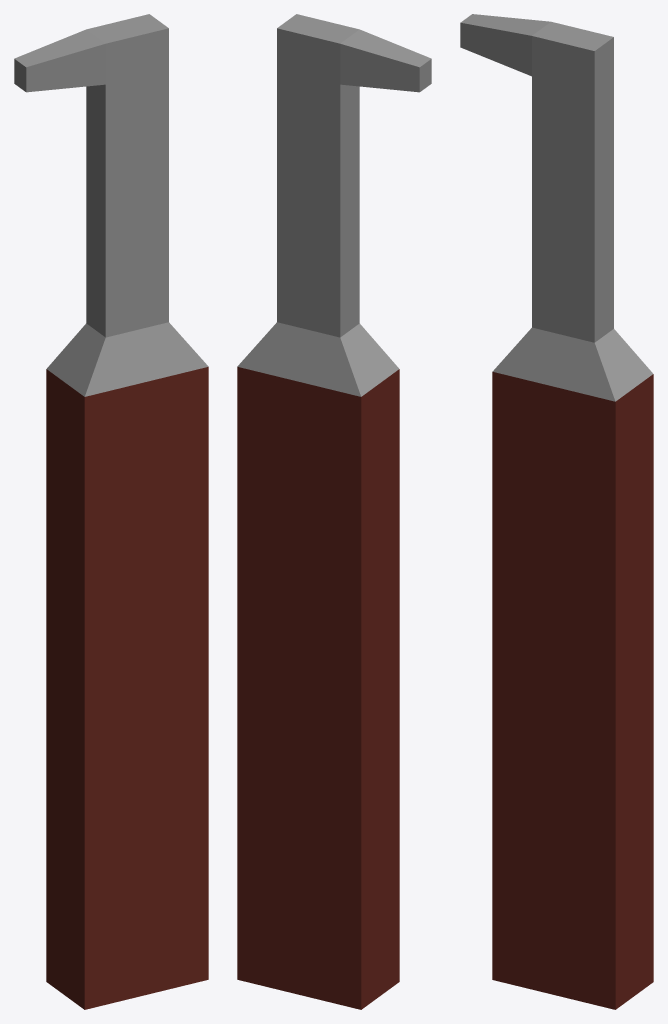
Rendered from lock_pick.glb.
The picture shows the model from 3 angles, left to right: view 1: azimuth 30°, elevation 25°; view 2: azimuth 150°, elevation 25°; view 3: azimuth 330°, elevation 25°; orthographic projection.
Visible parts, largest first — view 1: Cube; view 2: Cube; view 3: Cube.
Part boxes in pixels (x1,y1,x2,y2): Cube: (14,14,208,1009); Cube: (237,14,431,1009); Cube: (460,14,653,1009).
Size of the model in its own units: 0.2231 by 1.2 by 0.0873.
